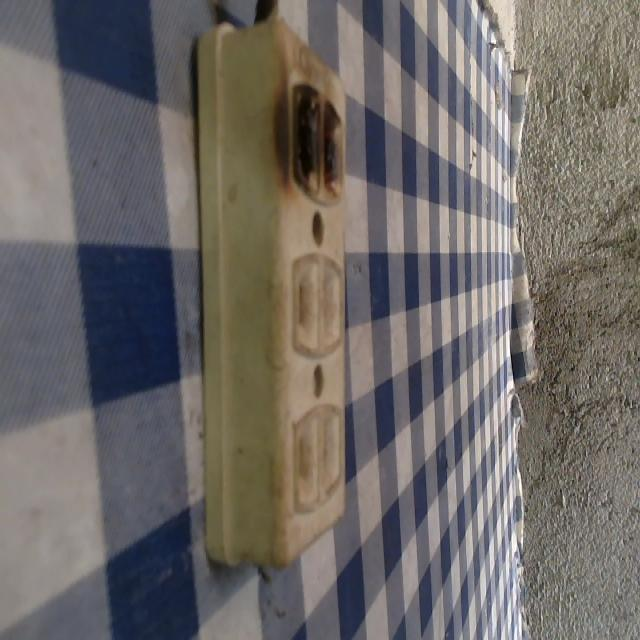-: (267, 70, 358, 202)
